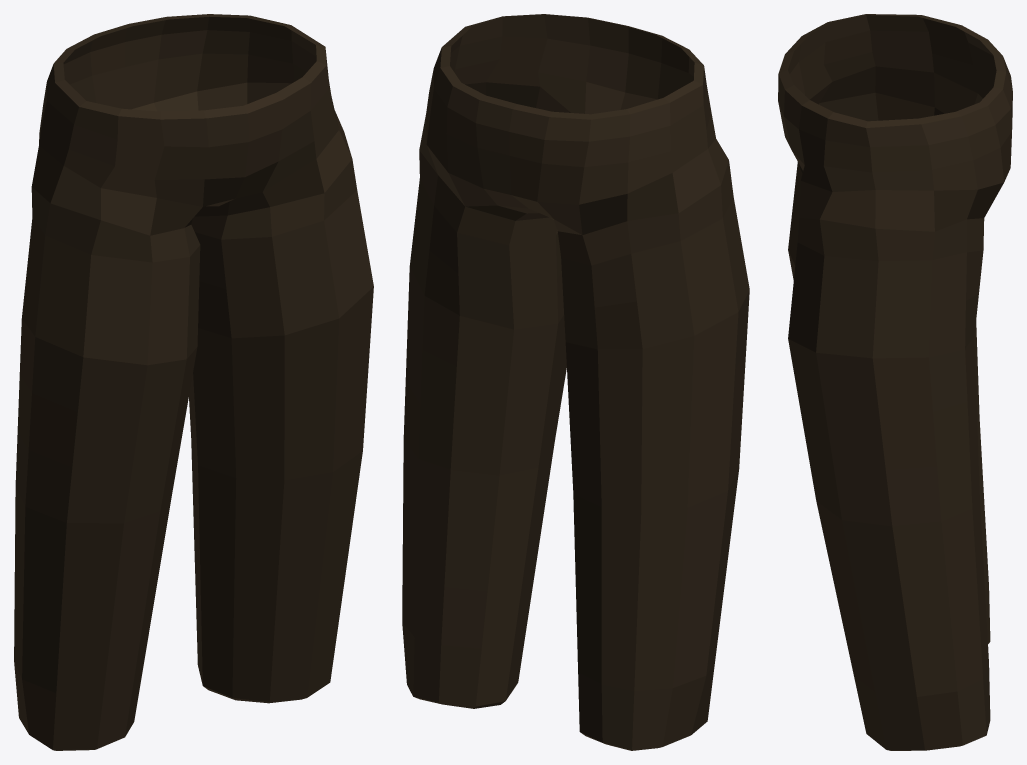
The model's file is Icon.fbx.
3 views of the same model, side by side, from view 1: azimuth 30°, elevation 25°; view 2: azimuth 150°, elevation 25°; view 3: azimuth 270°, elevation 25° (orthographic). The views are drawn at different scales.
Parts seen in each view (by area): view 1: Cloth Pants; view 2: Cloth Pants; view 3: Cloth Pants.
Part boxes in pixels (x1=…): Cloth Pants: x1=14, y1=14, x2=373, y2=750; Cloth Pants: x1=402, y1=14, x2=749, y2=750; Cloth Pants: x1=778, y1=14, x2=1012, y2=750.
Bounding box in the file's own units: 48.62 × 93.55 × 31.88.
